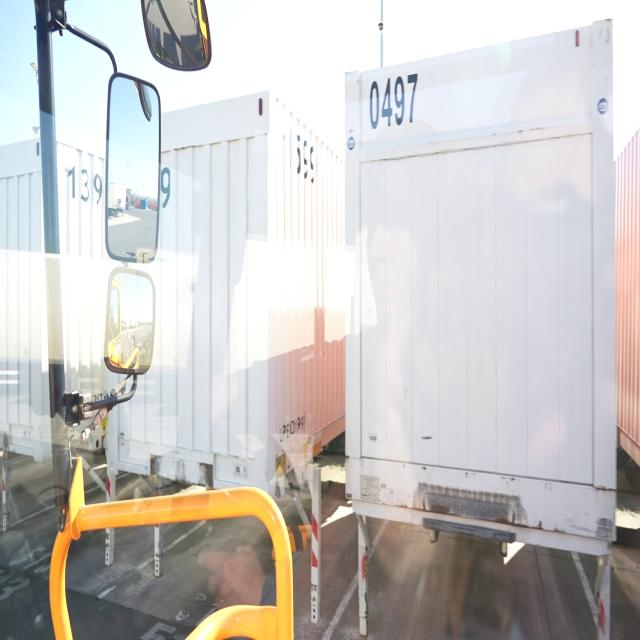Code: (368, 70, 424, 134)
